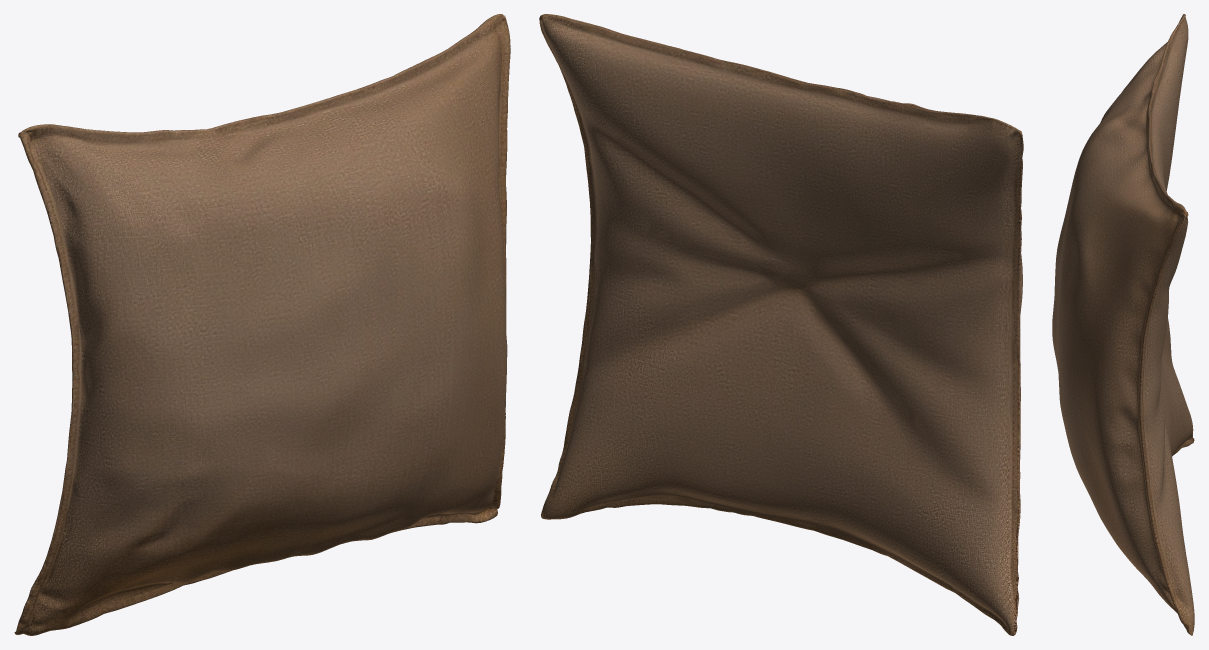
Rendered from dytag-cushion.glb.
3 views of the same model, side by side, from view 1: azimuth 30°, elevation 25°; view 2: azimuth 150°, elevation 25°; view 3: azimuth 270°, elevation 25° (orthographic). The views are drawn at different scales.
Visible parts, largest first — view 1: tripo_node_0ea7faa6-a99b-4880-9b8c-d74d1b5e6917; view 2: tripo_node_0ea7faa6-a99b-4880-9b8c-d74d1b5e6917; view 3: tripo_node_0ea7faa6-a99b-4880-9b8c-d74d1b5e6917.
Part boxes in pixels (box(x1,y1,x2,y2)): tripo_node_0ea7faa6-a99b-4880-9b8c-d74d1b5e6917: box(14, 14, 510, 635); tripo_node_0ea7faa6-a99b-4880-9b8c-d74d1b5e6917: box(539, 14, 1023, 635); tripo_node_0ea7faa6-a99b-4880-9b8c-d74d1b5e6917: box(1052, 14, 1194, 635).
Bounding box in the file's own units: 0.4999 × 0.4999 × 0.15.
1 material, 1 textured.
